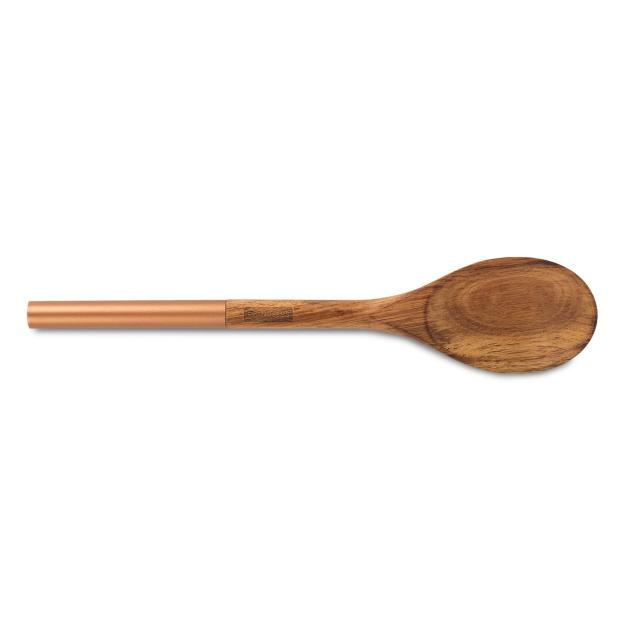spoon: (16, 248, 607, 386)
